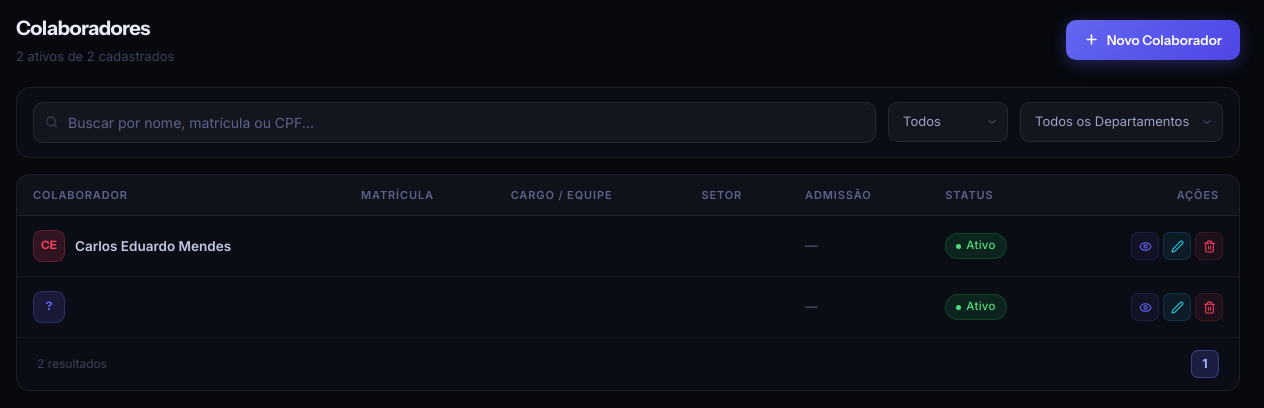
it: Employees — colaboradores com colunas nulas › busca por CPF pontuado funciona mesmo com o campo vazio no banco
This screenshot has width=1264, height=408.
Type "423" into the field with placeholder "Buscar por nome, matrícula ou CPF..." at (454, 122), box [33, 102, 876, 142]
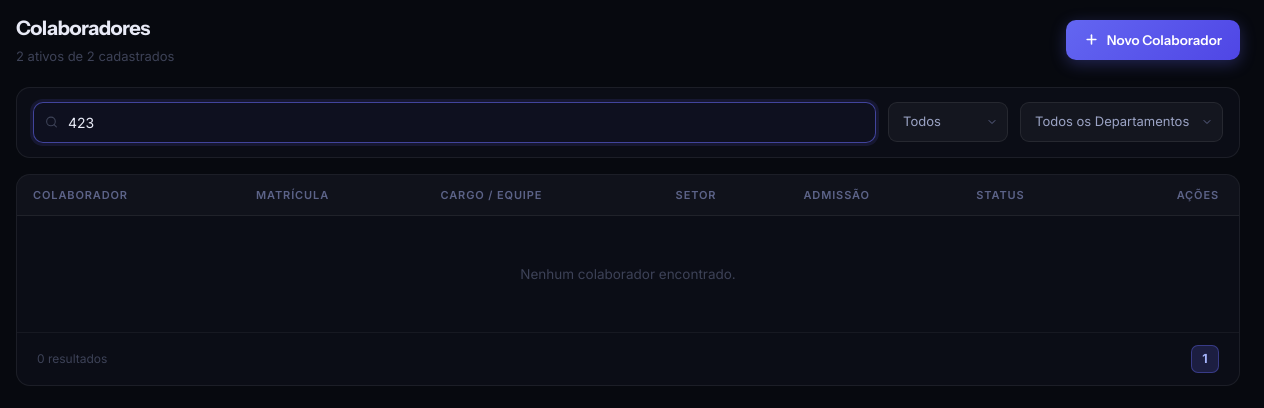
Result: the text "Nenhum colaborador encontrado." is shown at [17, 216, 1239, 332]
